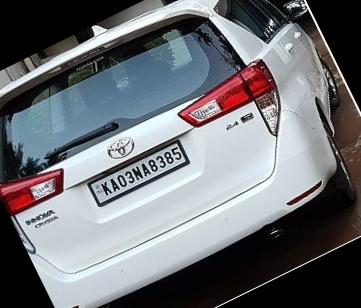plate: (77, 120, 210, 225)
